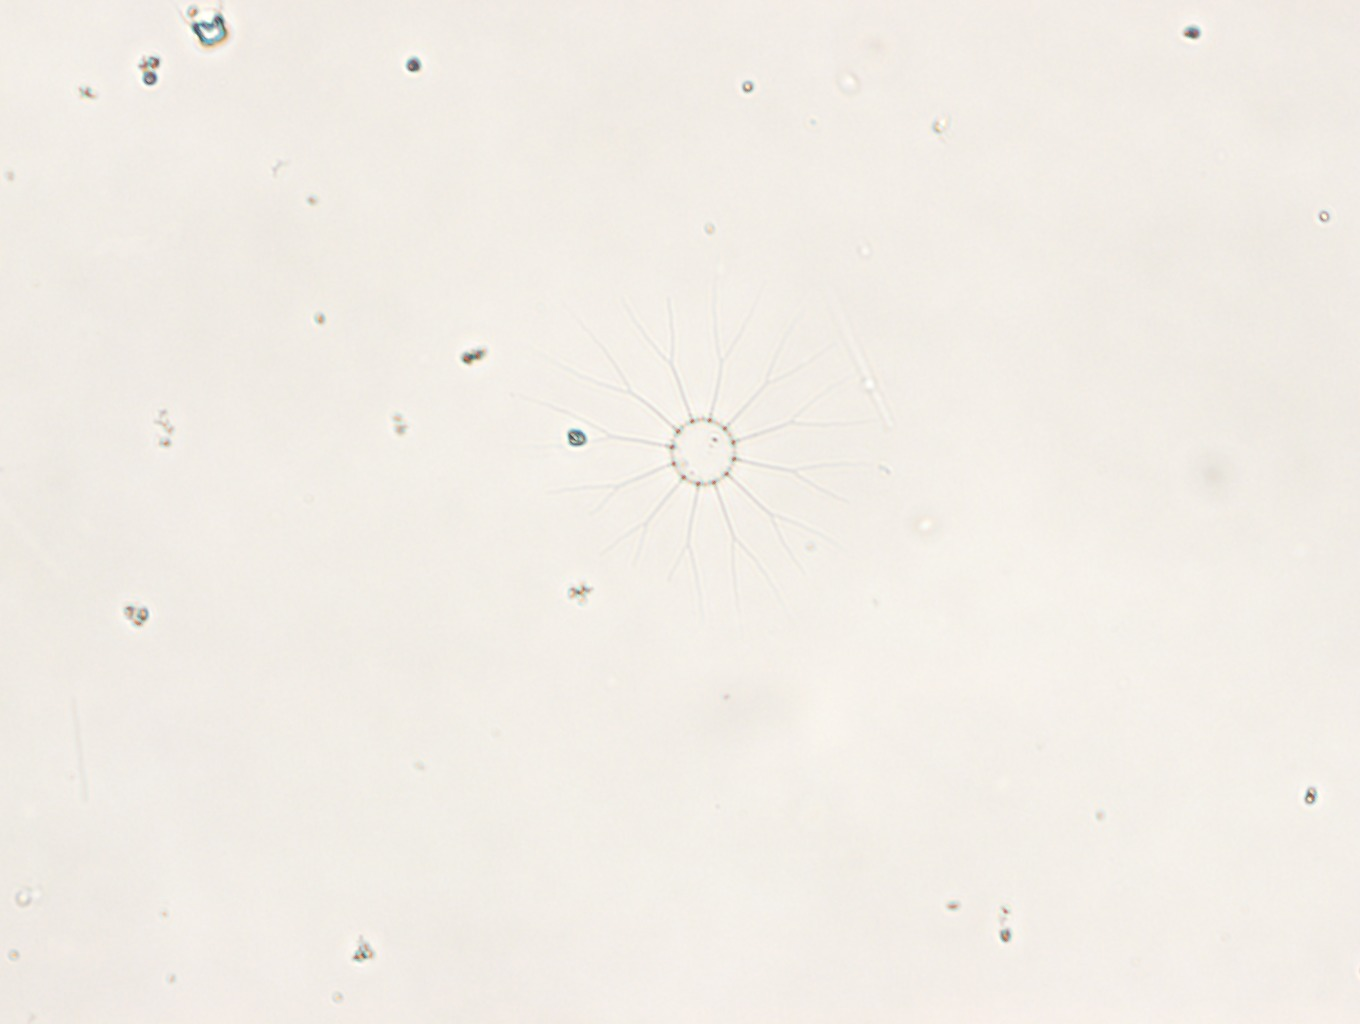bacteriastrum: (545, 293, 872, 605)
